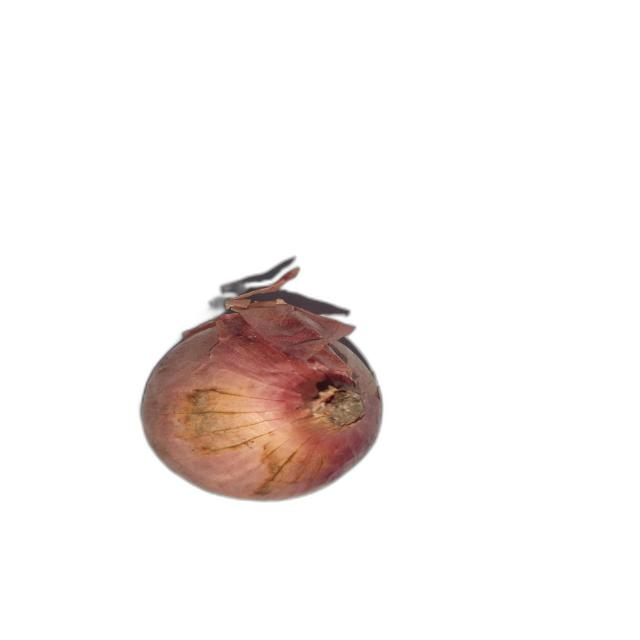onion: (137, 266, 386, 502)
